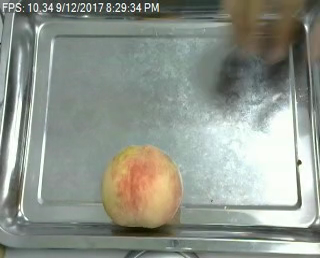Peach: (101, 143, 183, 228)
